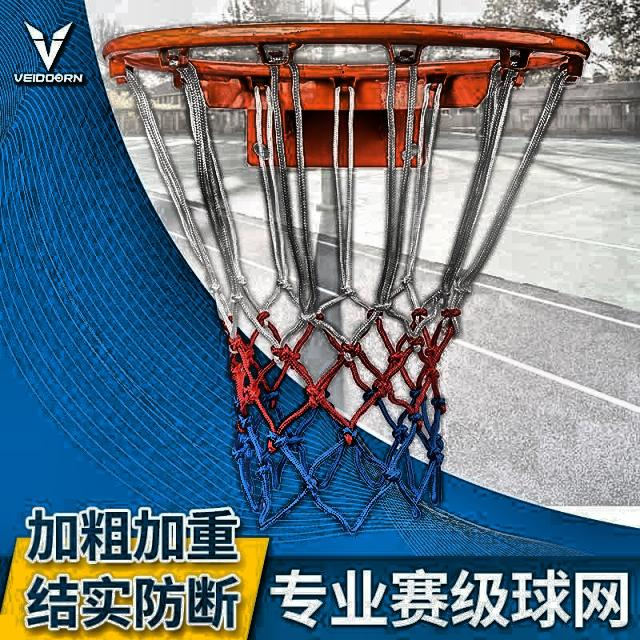rim: (97, 24, 590, 524)
